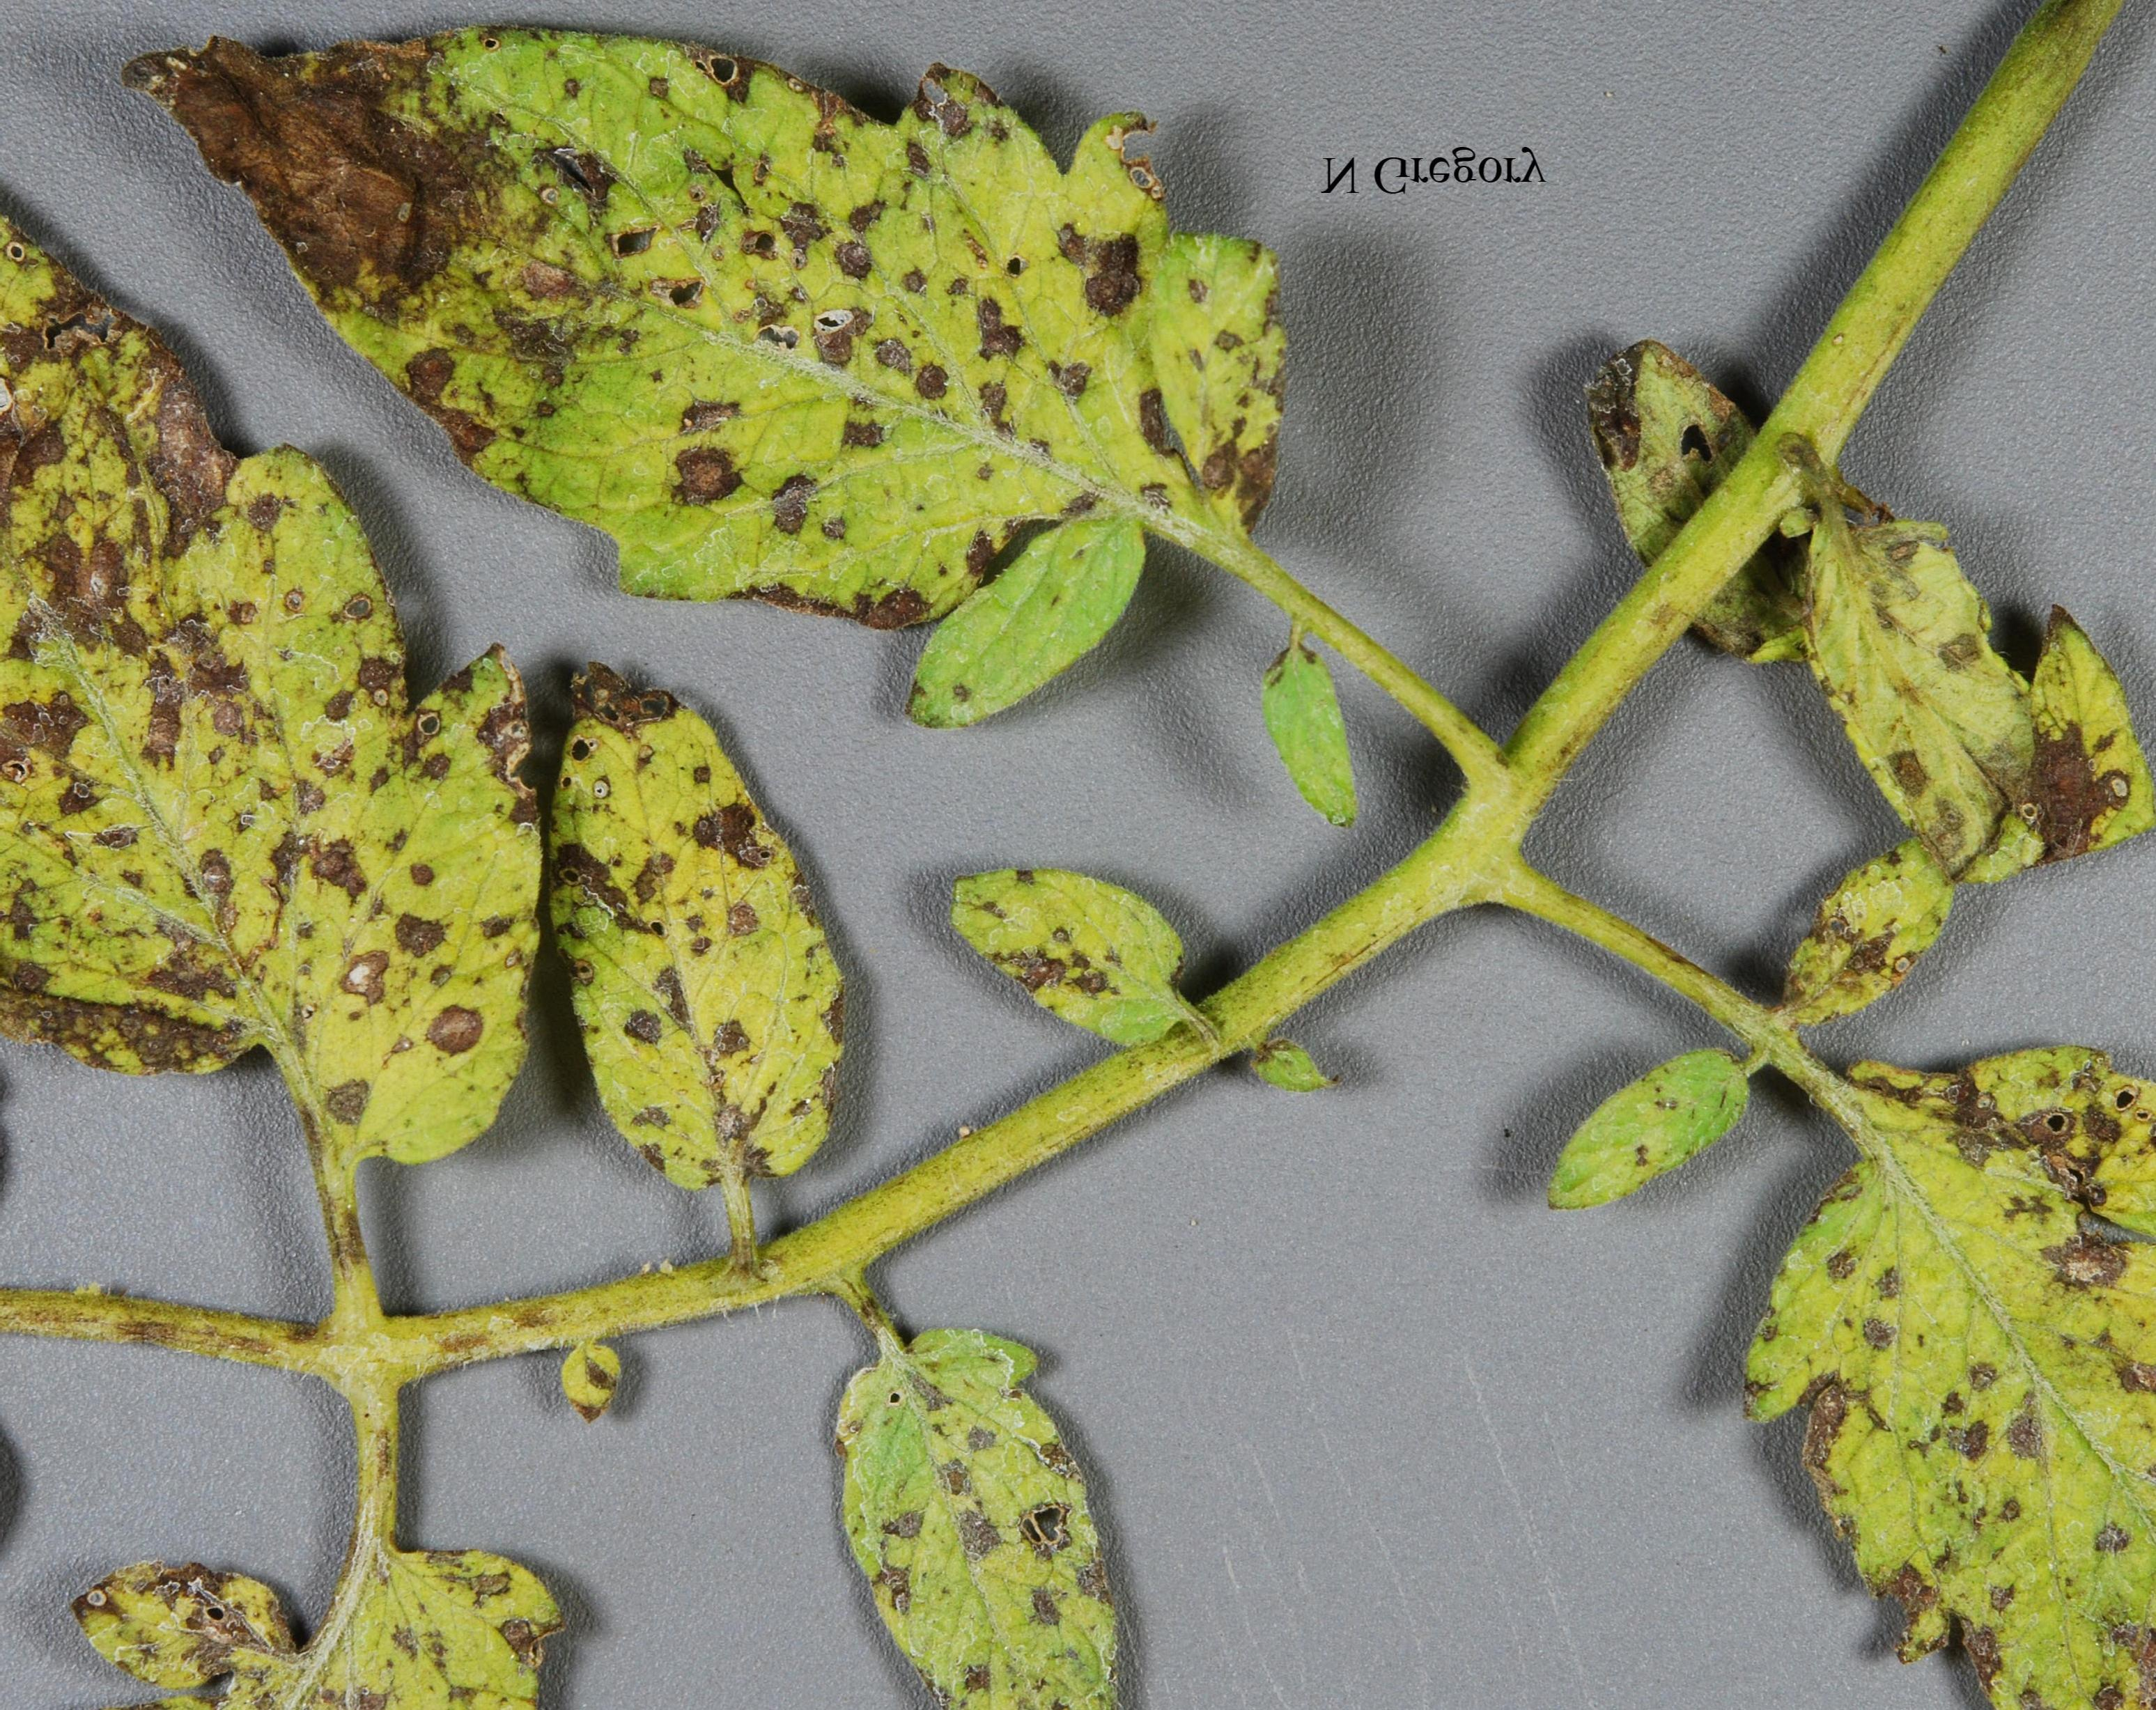Tomato Septoria leaf spot: (140, 26, 1307, 672), (0, 173, 548, 1243), (1659, 968, 2156, 1689), (502, 625, 843, 1188), (765, 1313, 1195, 1710), (1799, 445, 2149, 924), (910, 796, 1209, 1057)
